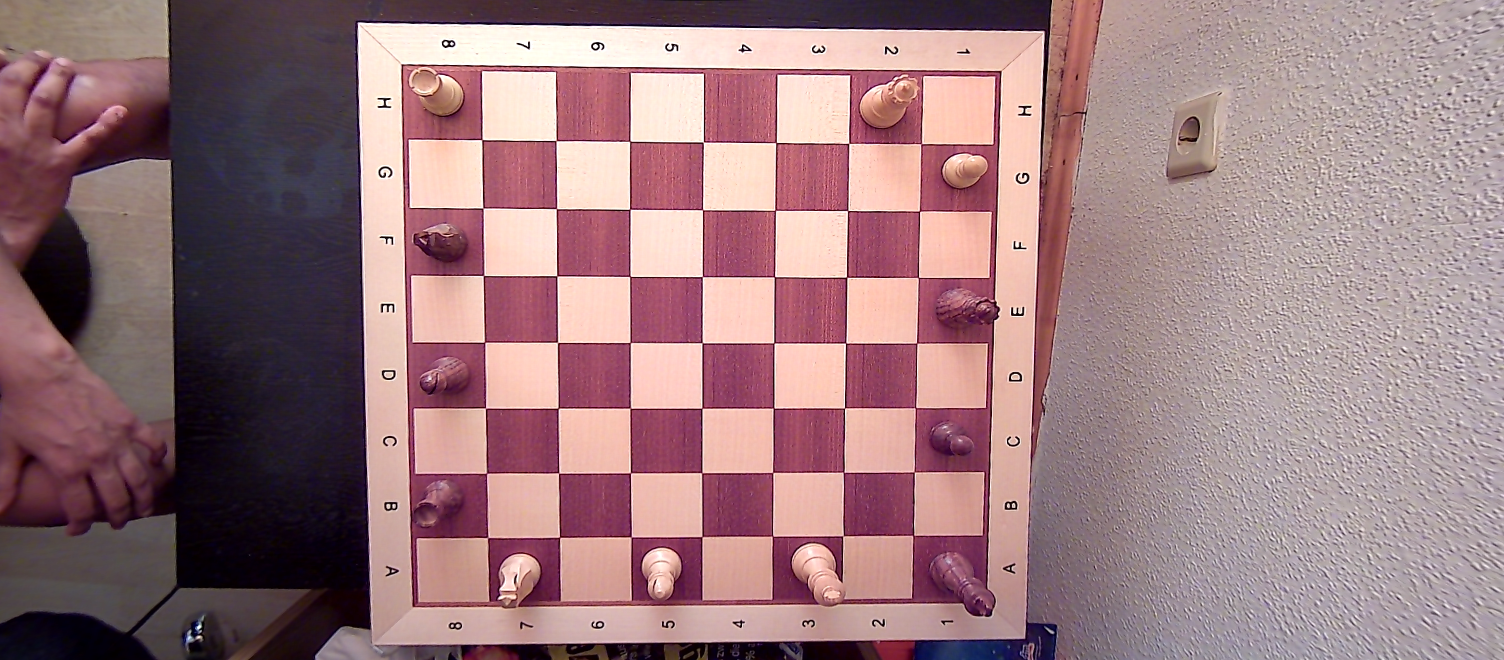black-bishop: (414, 352, 468, 397)
black-king: (925, 546, 1001, 621)
black-knight: (408, 218, 472, 268)
black-pawn: (925, 418, 984, 465)
black-queen: (931, 282, 1000, 329)
black-rook: (409, 478, 466, 535)
white-bishop: (639, 542, 684, 601)
white-king: (787, 539, 848, 607)
white-knight: (495, 550, 545, 611)
white-pawn: (938, 151, 988, 193)
white-queen: (860, 73, 922, 129)
white-rook: (404, 65, 469, 121)
